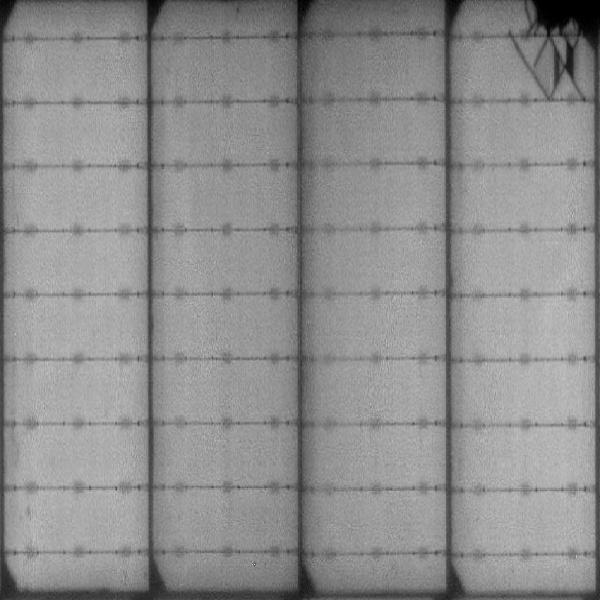broken: (506, 1, 600, 99)
